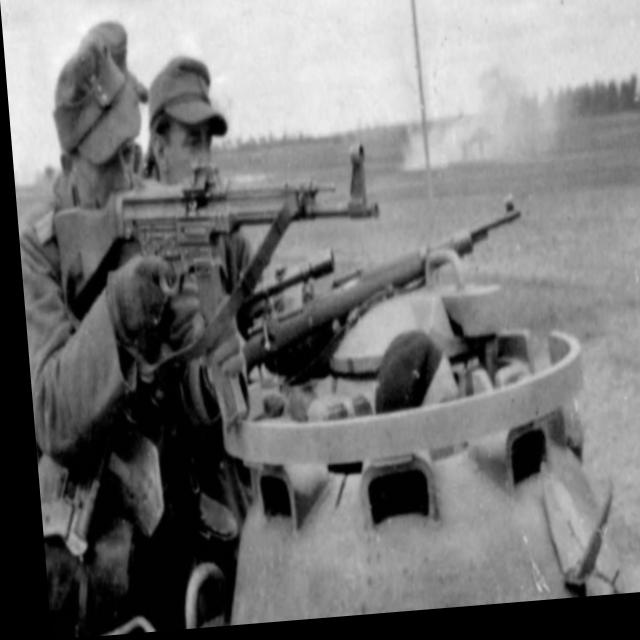other: (4, 58, 195, 602), (154, 67, 217, 180)
